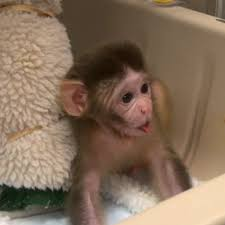monkey: (35, 24, 204, 200)
